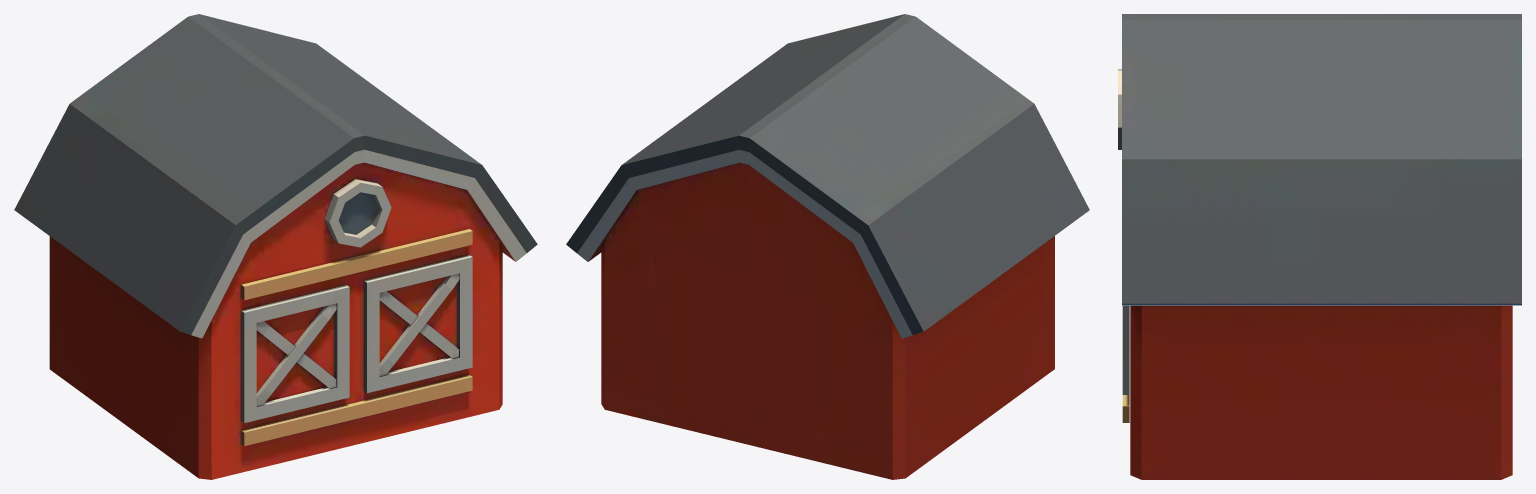
File: house7.glb
3 renders of one model, left to right at view 1: azimuth 30°, elevation 25°; view 2: azimuth 150°, elevation 25°; view 3: azimuth 270°, elevation 25°, orthographic. The views are drawn at different scales.
Parts seen in each view (by area): view 1: barn; view 2: barn; view 3: barn.
Part boxes in pixels (x1,y1,x2,y2): barn: [14, 14, 537, 479]; barn: [566, 14, 1089, 479]; barn: [1118, 14, 1521, 479].
Size of the model in its own units: 1.68 by 1.4 by 1.37.
1 material, 1 textured.
